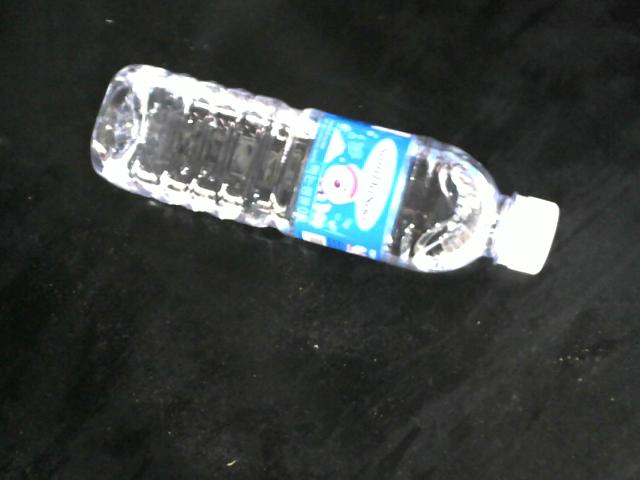bottle: (88, 62, 562, 281)
